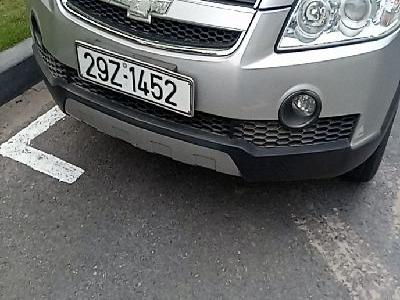car: (75, 41, 195, 118)
